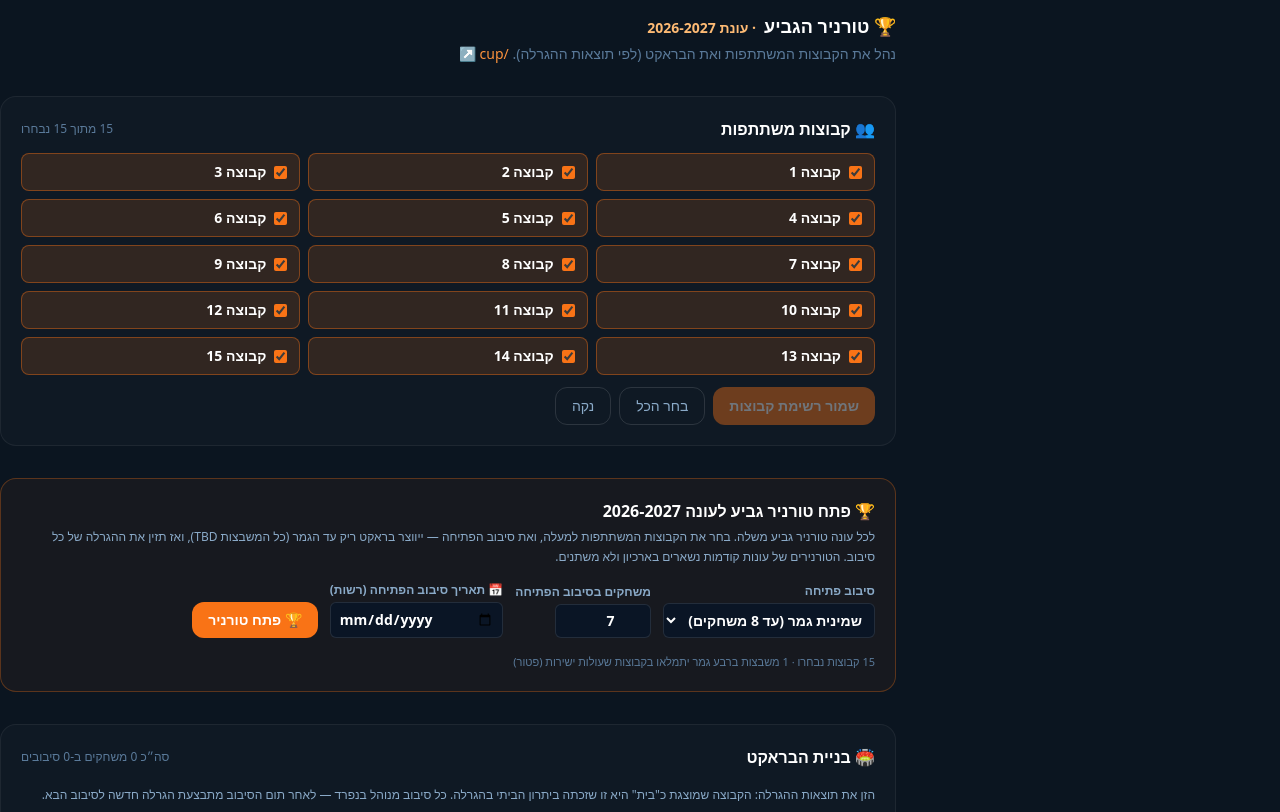
Test case: CupTab — start a season tournament › shows the error and keeps the card when the server refuses
Click the button "🏆 פתח טורניר".
click(255, 620)  # box [192,602,318,638]
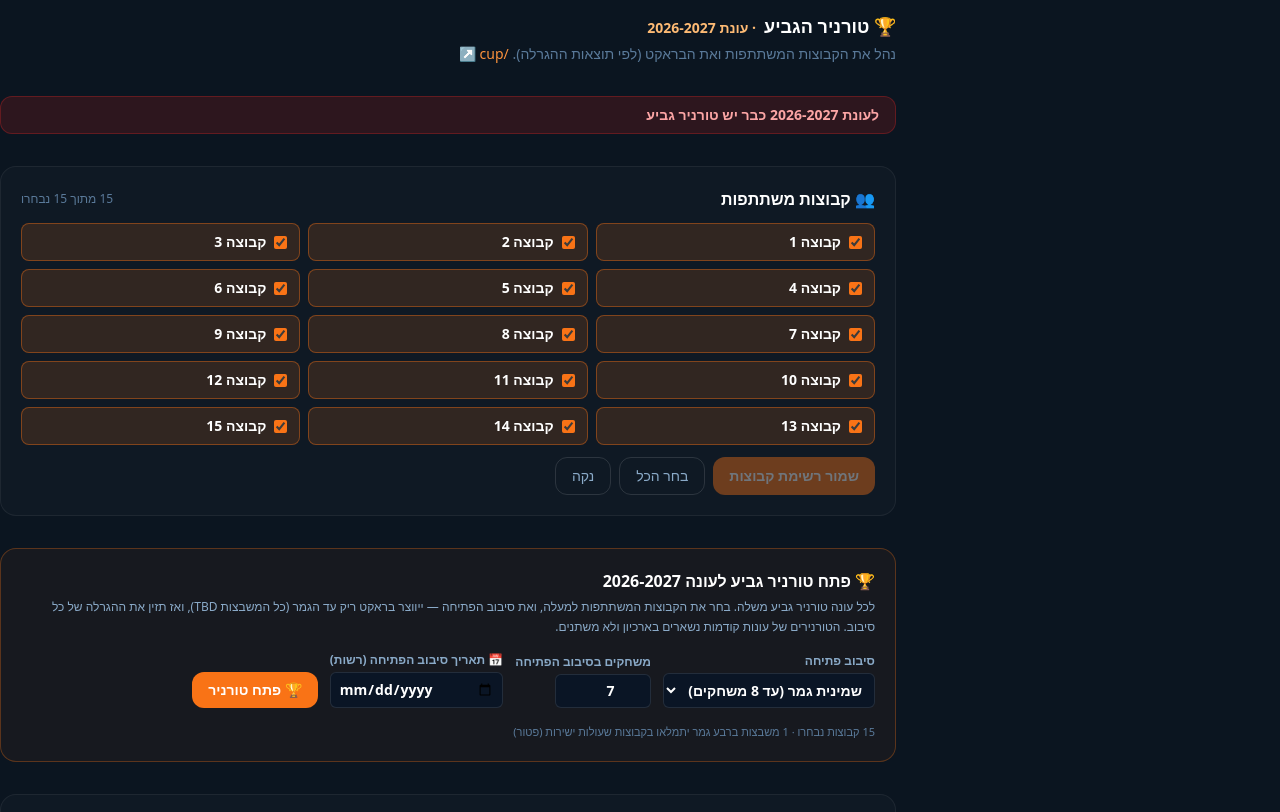
Expected: the heading "🏆 פתח טורניר גביע לעונה 2026-2027" is shown, [603,570,875,592]
Result: the text "לעונת 2026-2027 כבר יש טורניר גביע" is shown at [0,96,896,134]
